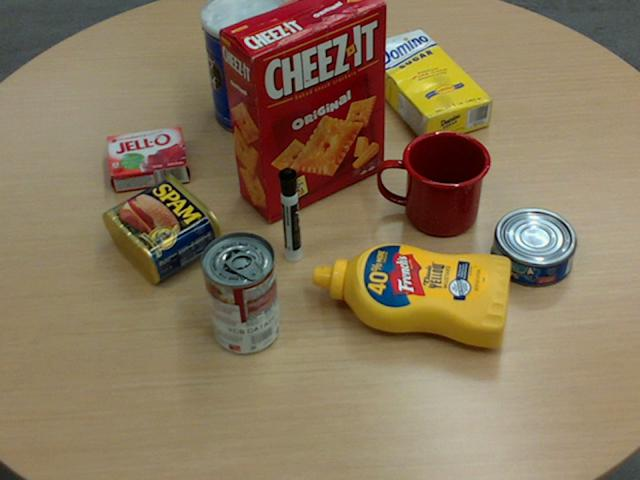cracker_box: (218, 0, 386, 221)
gelatin_box: (106, 125, 188, 190)
large_marker: (277, 168, 302, 262)
master_chef_can: (200, 0, 294, 135)
mug: (378, 129, 490, 235)
mustard_bottle: (311, 244, 510, 346)
potted_meat_can: (103, 172, 223, 282)
sugar_box: (360, 27, 493, 144)
tomato_soup_can: (199, 230, 279, 353)
tuna_fish_can: (491, 207, 576, 285)
